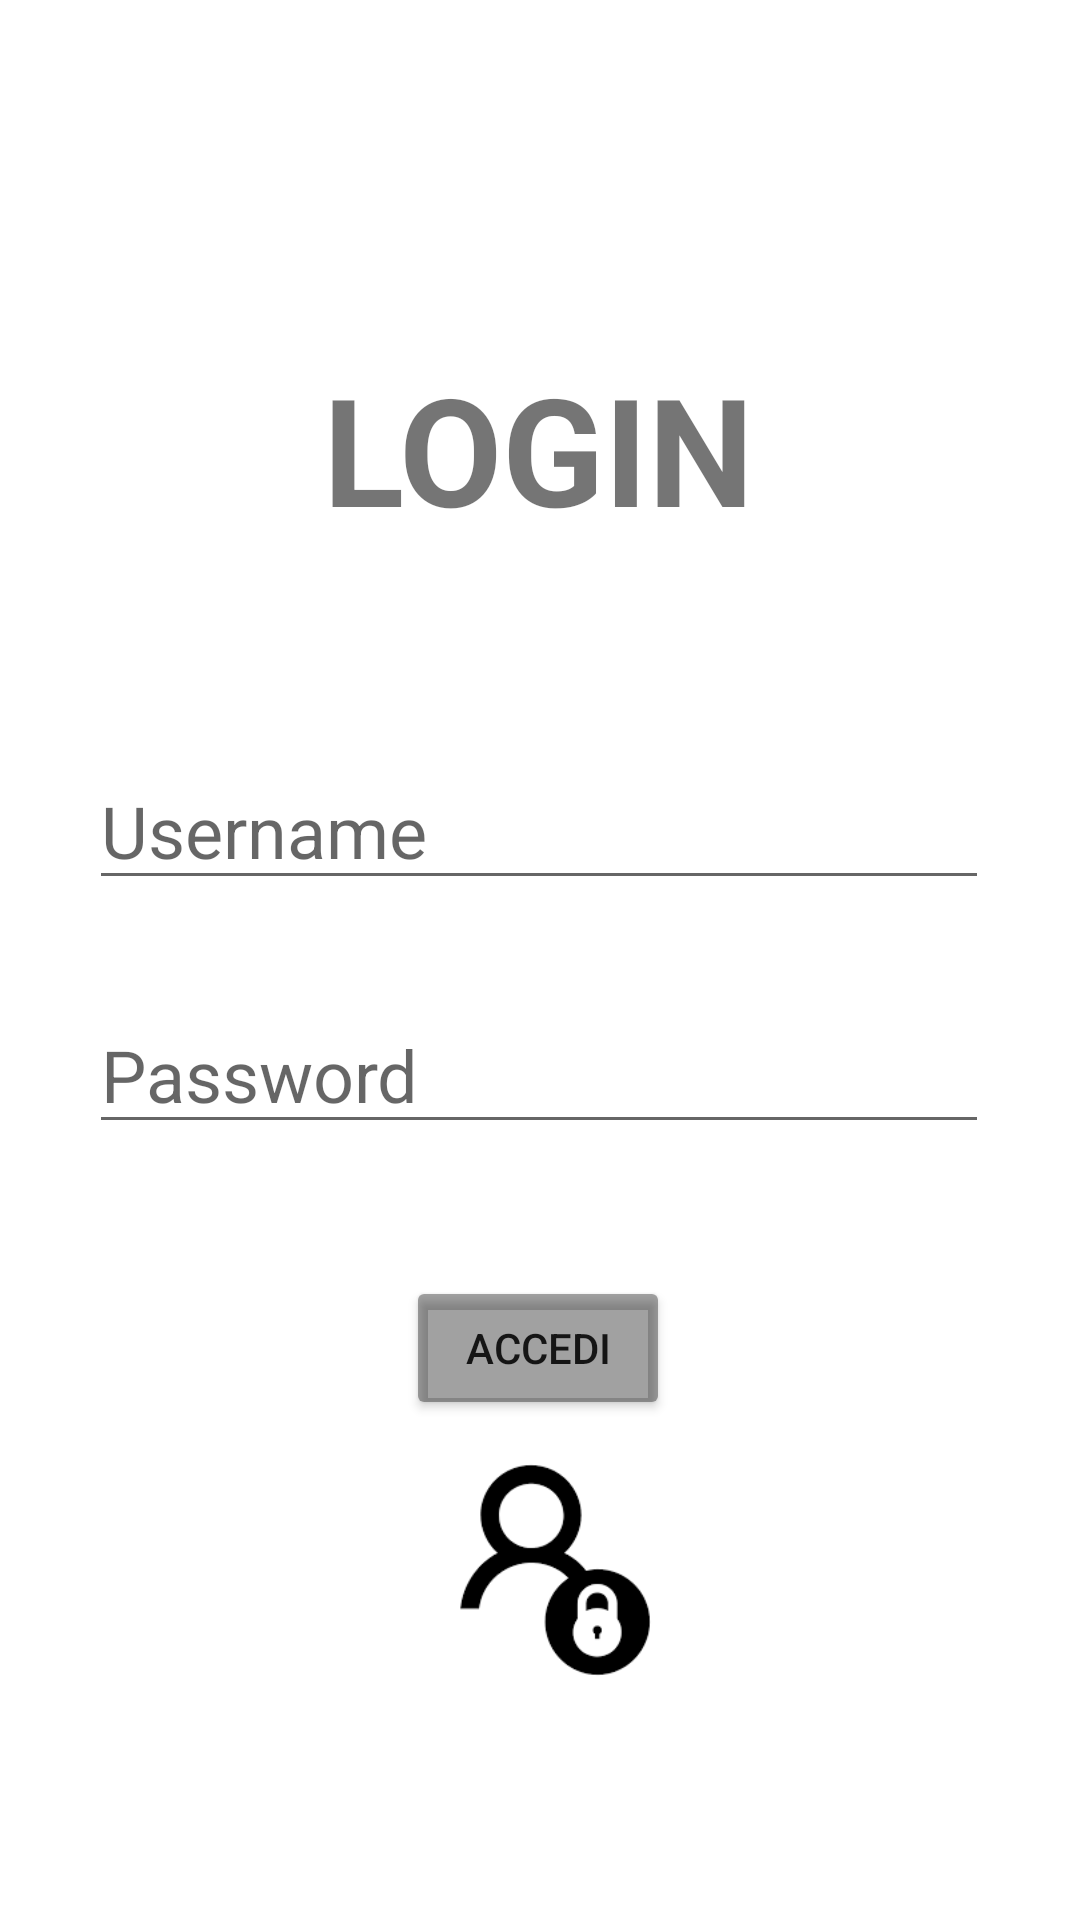

Named icons in this screenshot (1080 x 1920) and their bounding boxes, (x1, y1, x2, y2):
login: (460, 1465, 650, 1675)
